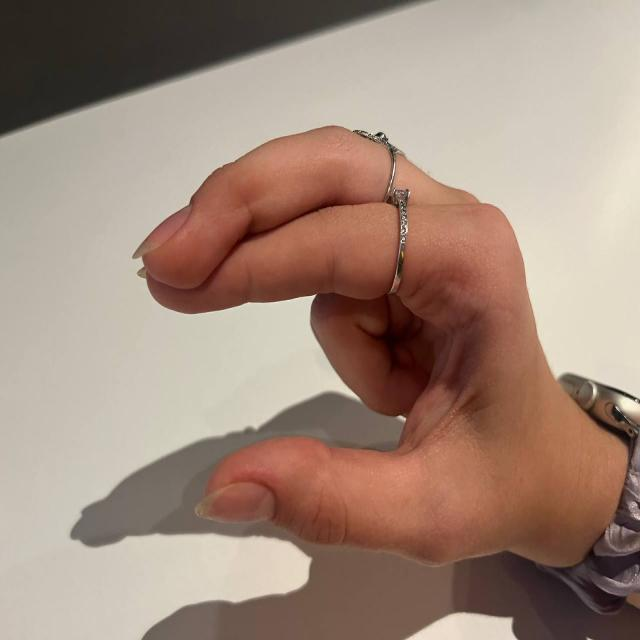ia: (134, 108, 566, 565)
